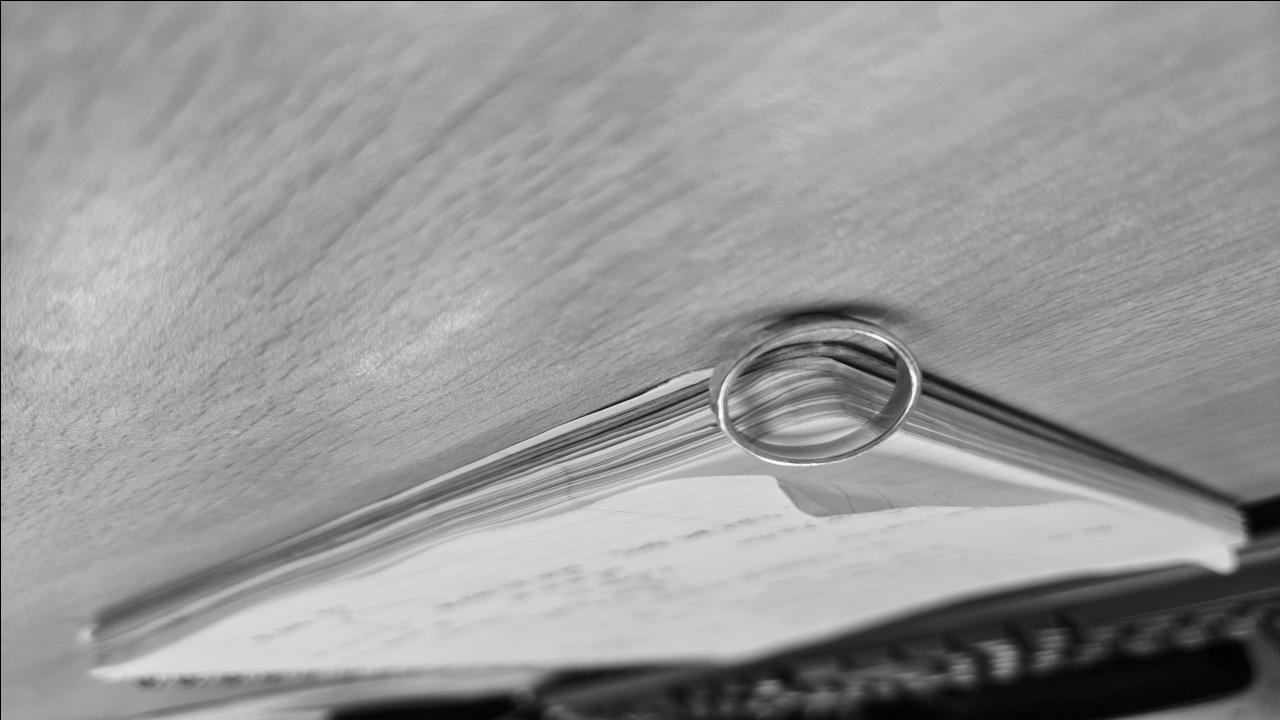ring: (706, 309, 920, 466)
